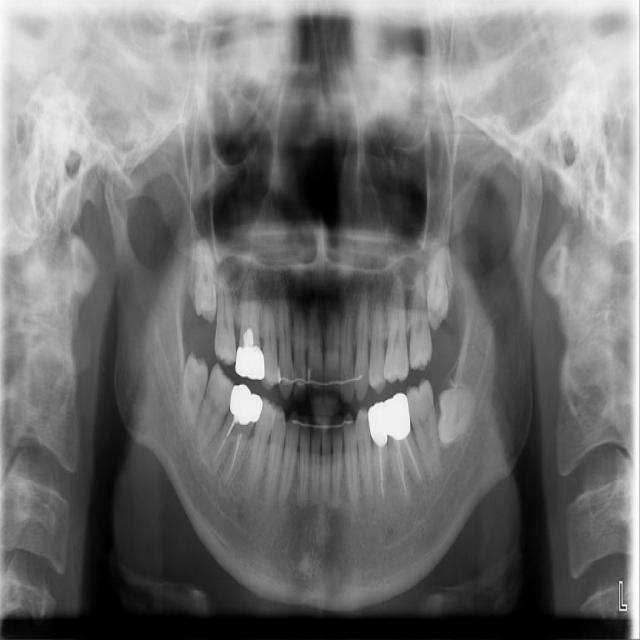Crown: (230, 384, 263, 426), (383, 393, 411, 441), (235, 345, 265, 380), (367, 401, 389, 448)
Filling: (243, 328, 255, 345)
Root Canal Treatment: (225, 434, 241, 483), (406, 442, 420, 480), (399, 442, 408, 494), (212, 434, 228, 463), (380, 448, 383, 494)
impacted tooth: (436, 384, 480, 446), (188, 238, 221, 320), (423, 242, 451, 330)
